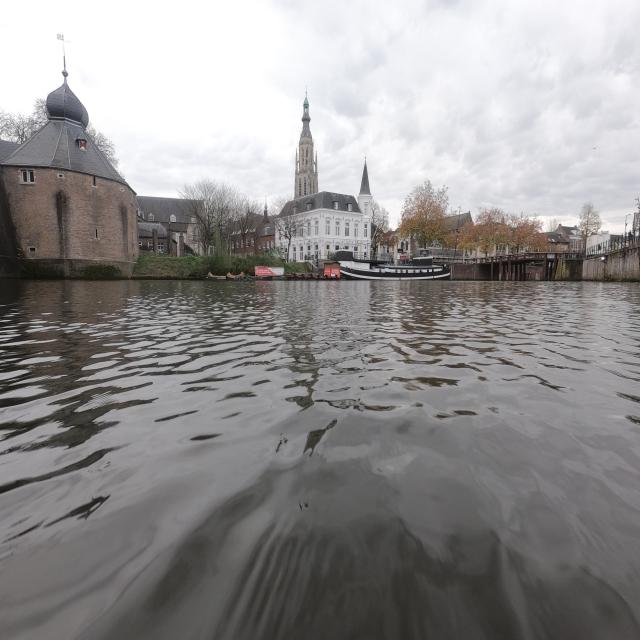boat: (350, 260, 452, 278)
grass: (148, 252, 254, 274)
sky: (6, 6, 638, 230)
tree: (459, 207, 548, 257), (399, 180, 450, 248)
wall: (0, 68, 136, 276), (582, 248, 638, 278)
water: (10, 288, 638, 634)
